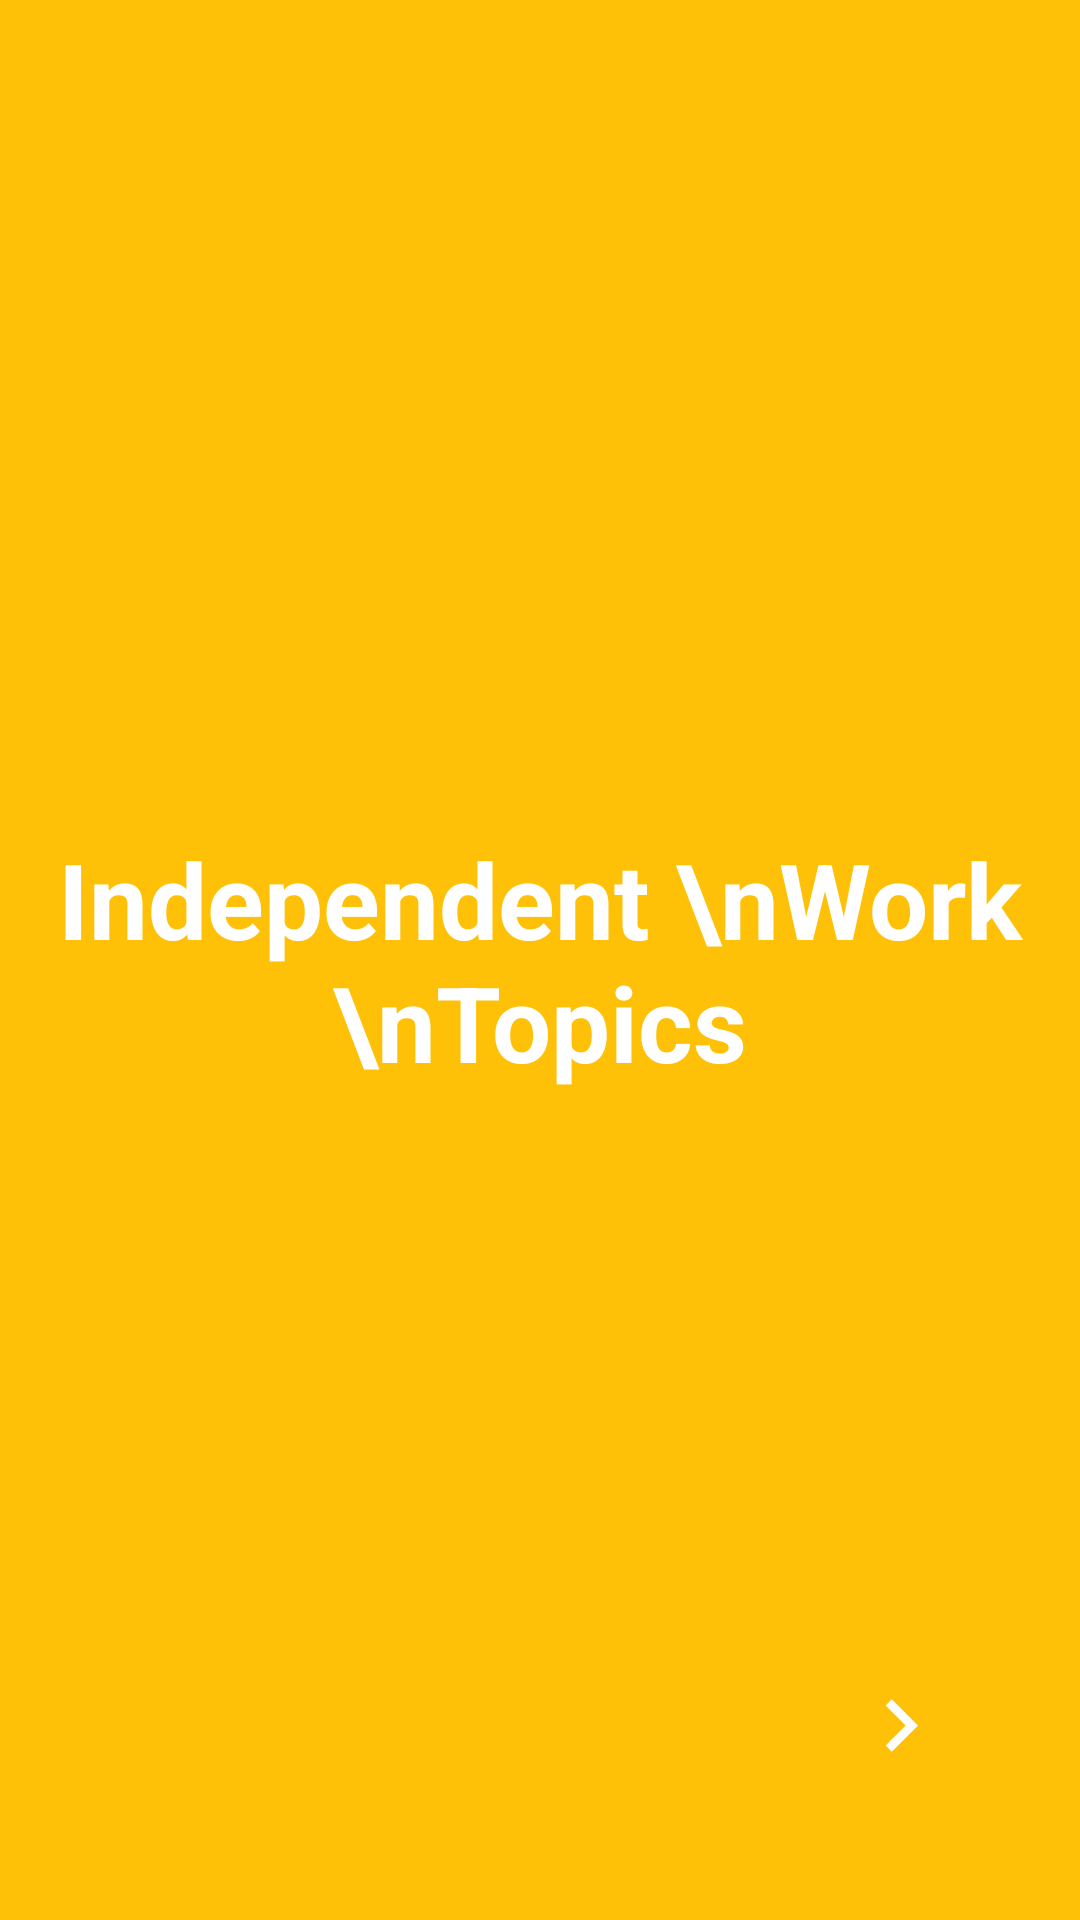

Screen size 1080w x 1920h. Icon name, then its box in pixels as (left=x1, top=y1, right=x2, bottom=y2):
right: (left=885, top=1699, right=918, bottom=1752)
